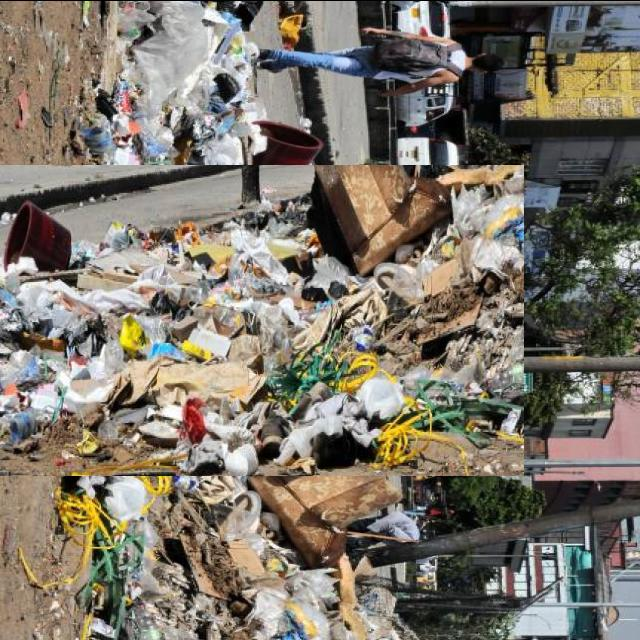garbage: (0, 82, 442, 558)
